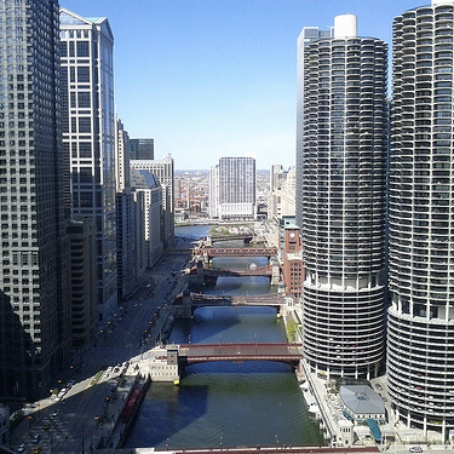building: (296, 25, 392, 365), (383, 4, 454, 454), (1, 1, 70, 351), (58, 1, 122, 328), (216, 153, 262, 220)
river: (131, 224, 299, 445)
sky: (128, 1, 290, 154)
